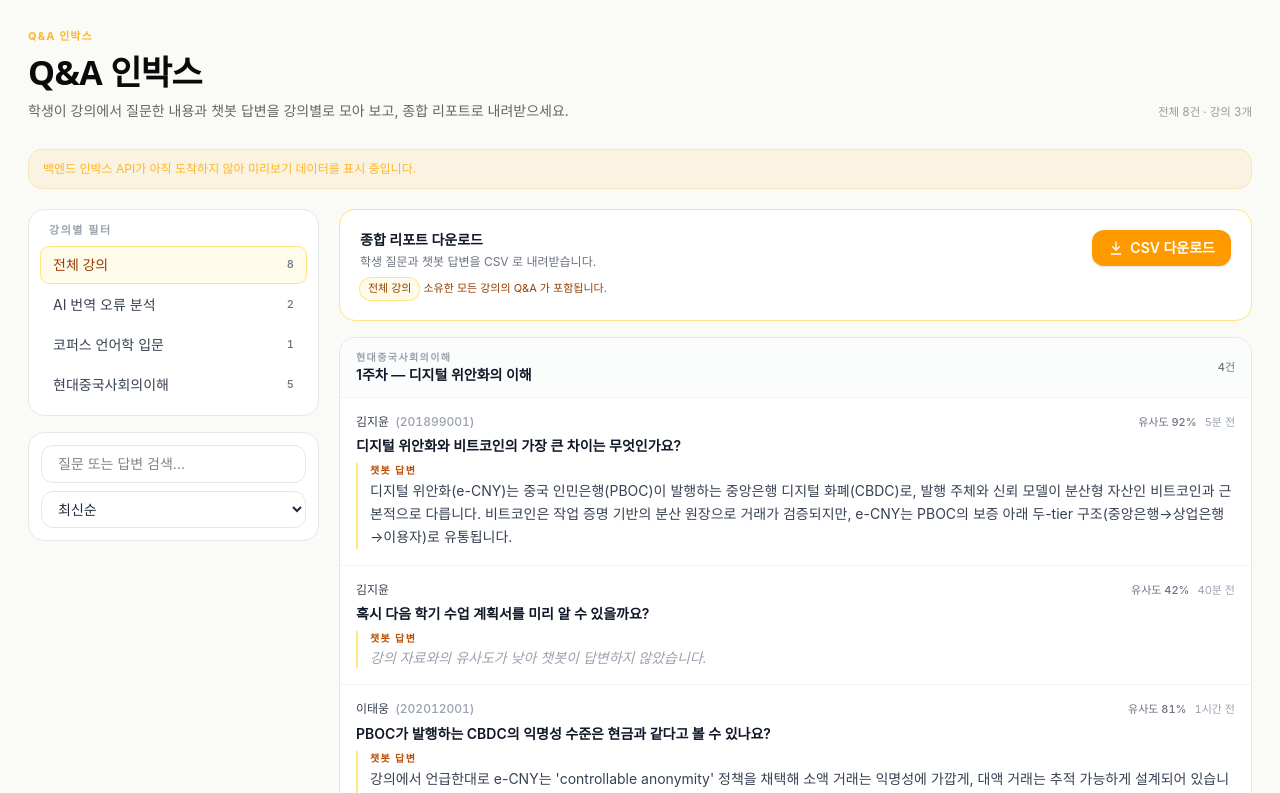
Test: ProfessorInboxPage (redesigned report view) › filters by course when a sidebar item is clicked
Click the button with test id "inbox-course-course-corpus". click: (108, 344)
box: [41, 327, 306, 363]
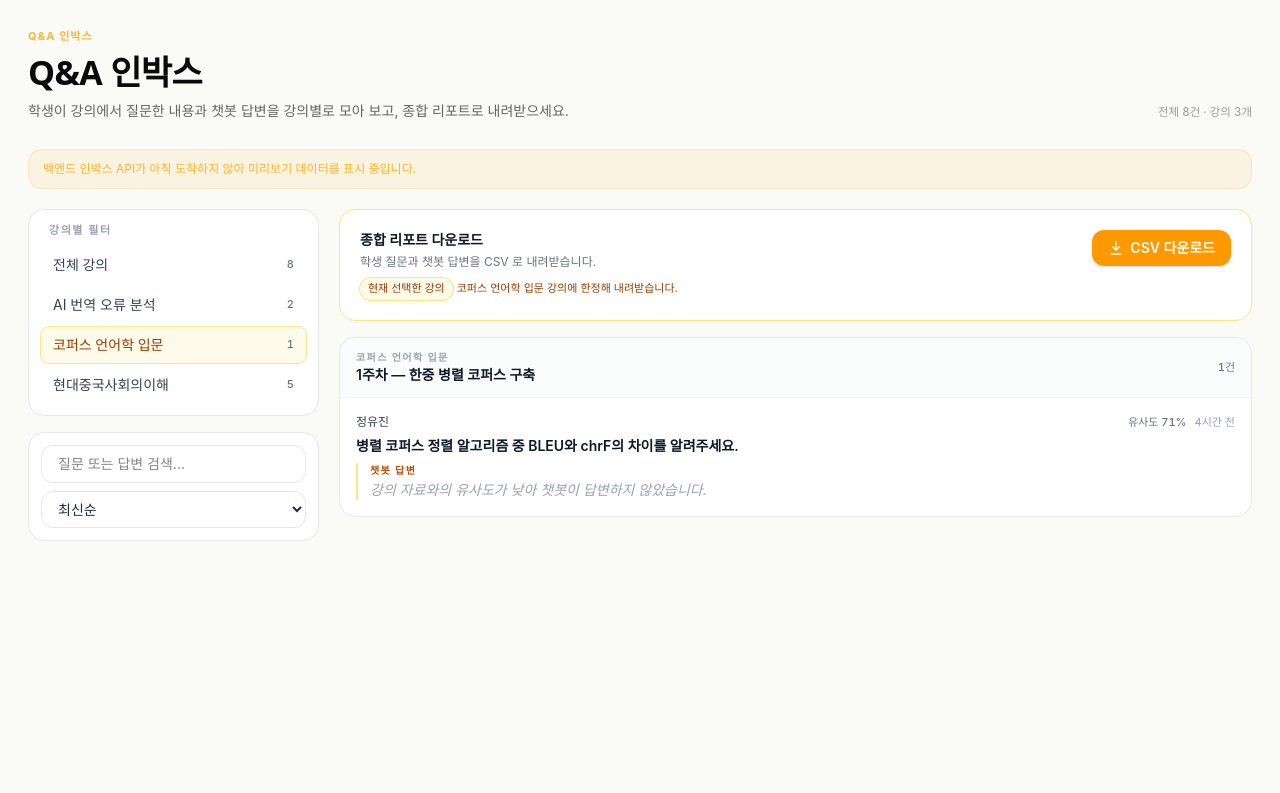
Expected: the list item with test id "inbox-row-qa-needs-3" is shown, [340, 398, 1251, 516]
Expected: the list item with test id "inbox-row-qa-auto-1" is gone
